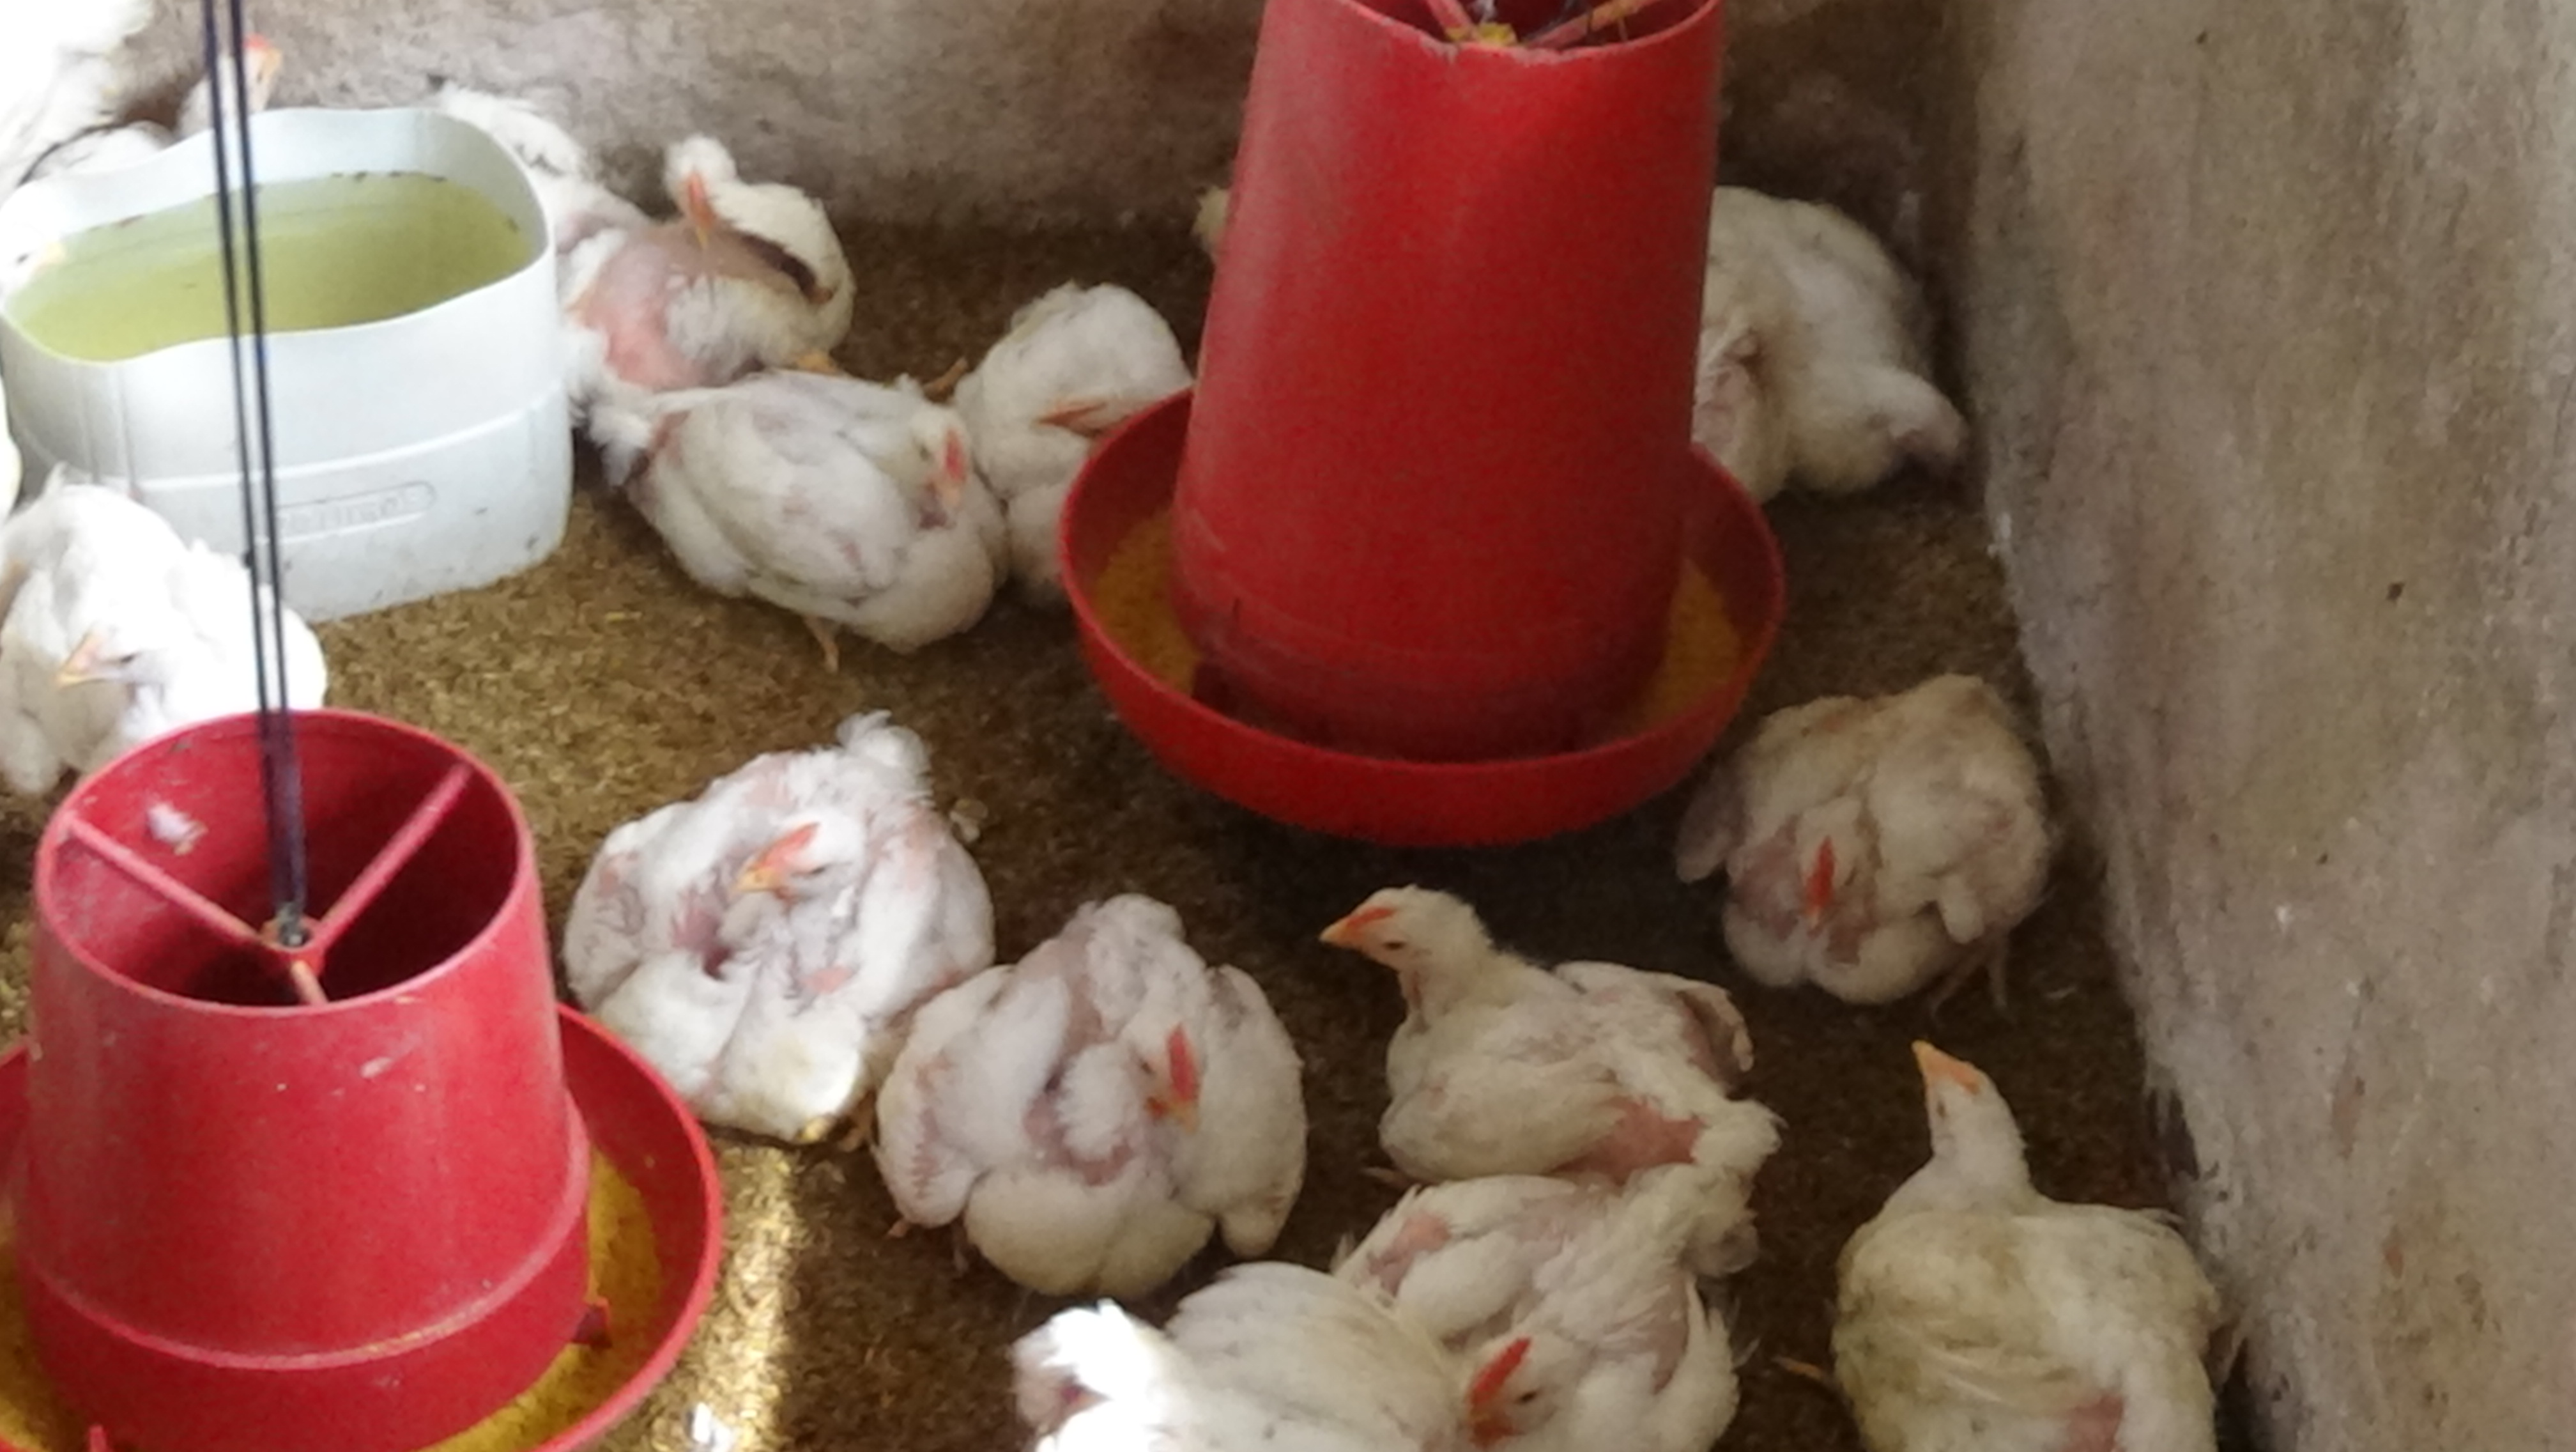Pollos: (550, 701, 994, 1167), (1787, 1027, 2231, 1443), (1313, 868, 1771, 1225), (881, 887, 1297, 1278), (1668, 659, 2075, 1041), (1654, 122, 1990, 522), (1362, 1160, 1792, 1452), (602, 374, 1028, 662), (513, 101, 888, 413), (922, 251, 1215, 620), (28, 514, 334, 751)
